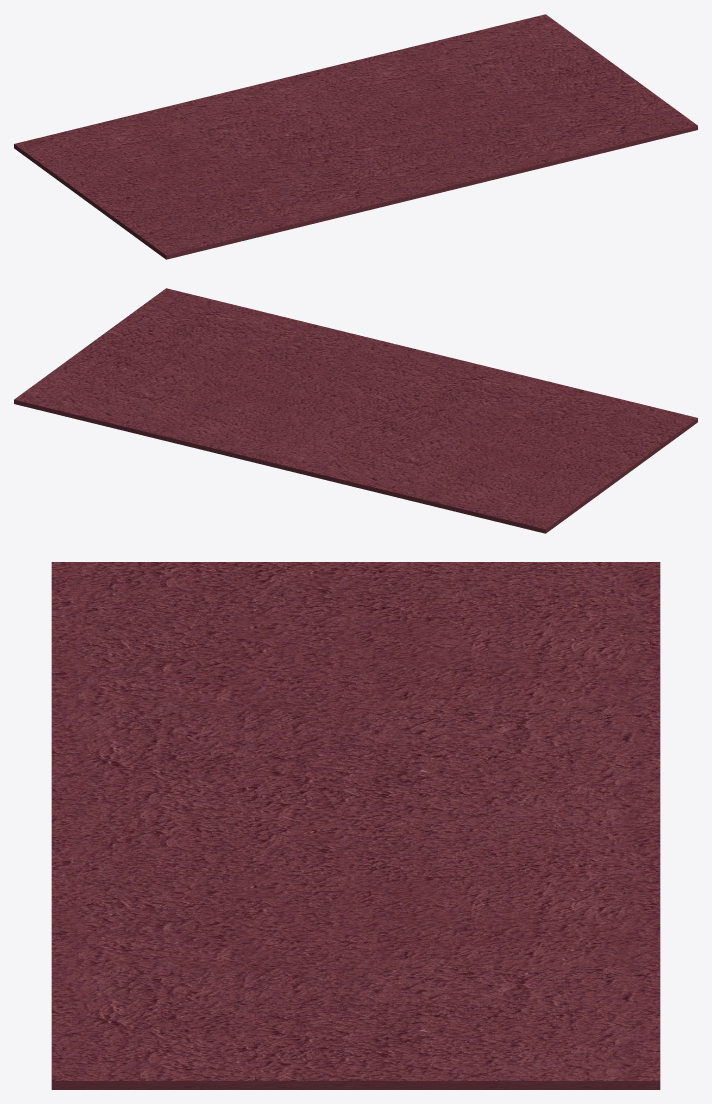
File: tapi_long.fbx
The picture shows the model from 3 angles, top to bottom: view 1: azimuth 30°, elevation 25°; view 2: azimuth 150°, elevation 25°; view 3: azimuth 270°, elevation 25°; orthographic projection. The views are drawn at different scales.
Parts seen in each view (by area): view 1: Box003; view 2: Box003; view 3: Box003.
Part boxes in pixels (box(x1,y1,x2,y2)): Box003: box(14, 14, 697, 259); Box003: box(14, 288, 697, 533); Box003: box(51, 562, 660, 1089).
Bounding box in the file's own units: 267 × 132 × 2.09.
1 material, 1 textured.
